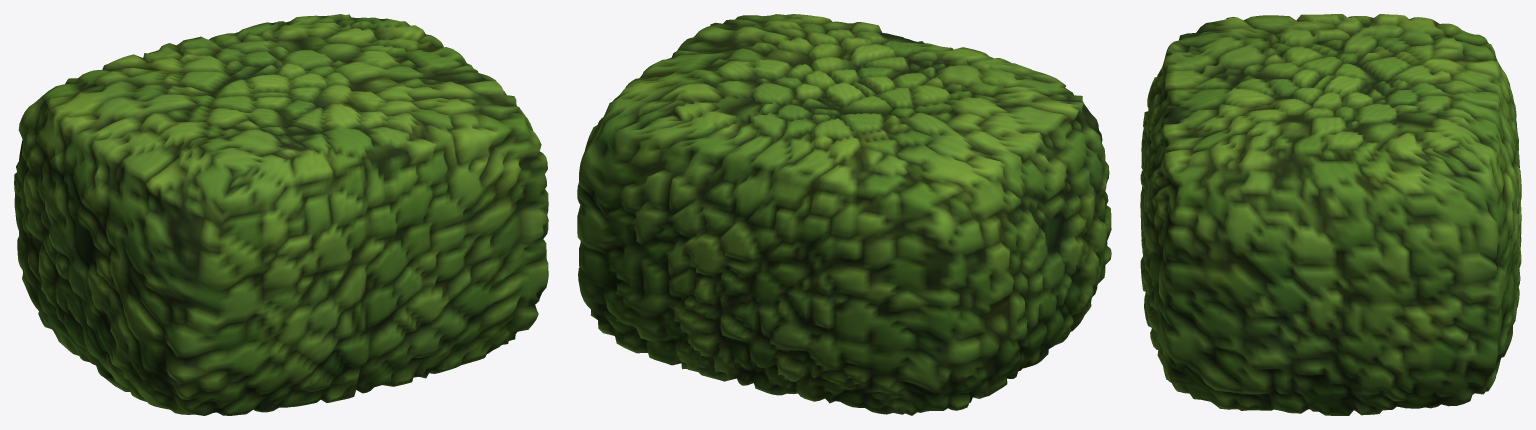
Rendered from wall-plant.glb.
3 views of the same model, side by side, from view 1: azimuth 30°, elevation 25°; view 2: azimuth 150°, elevation 25°; view 3: azimuth 270°, elevation 25° (orthographic).
Visible parts, largest first — view 1: wall-plant-wall; view 2: wall-plant-wall; view 3: wall-plant-wall.
Boxes of the visible parts, x1,y1,x2,y2 form: wall-plant-wall: (14,14,548,415); wall-plant-wall: (577,14,1111,415); wall-plant-wall: (1140,14,1521,415).
Size of what is drawn, in the model's own units: 29.86 by 17.84 by 23.8.
